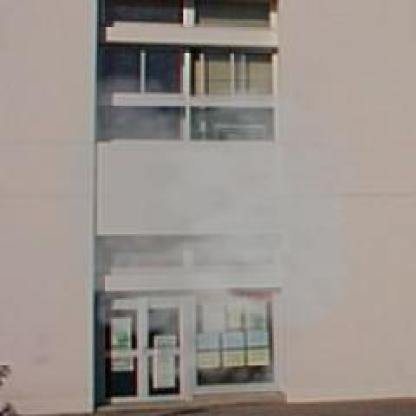Smoke: (30, 65, 394, 405)
